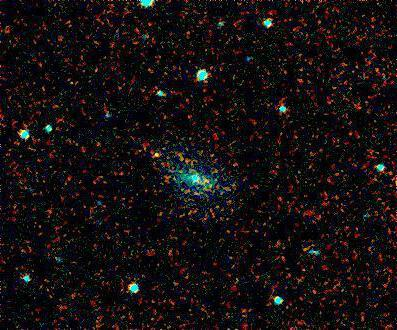star: (142, 140, 172, 170)
